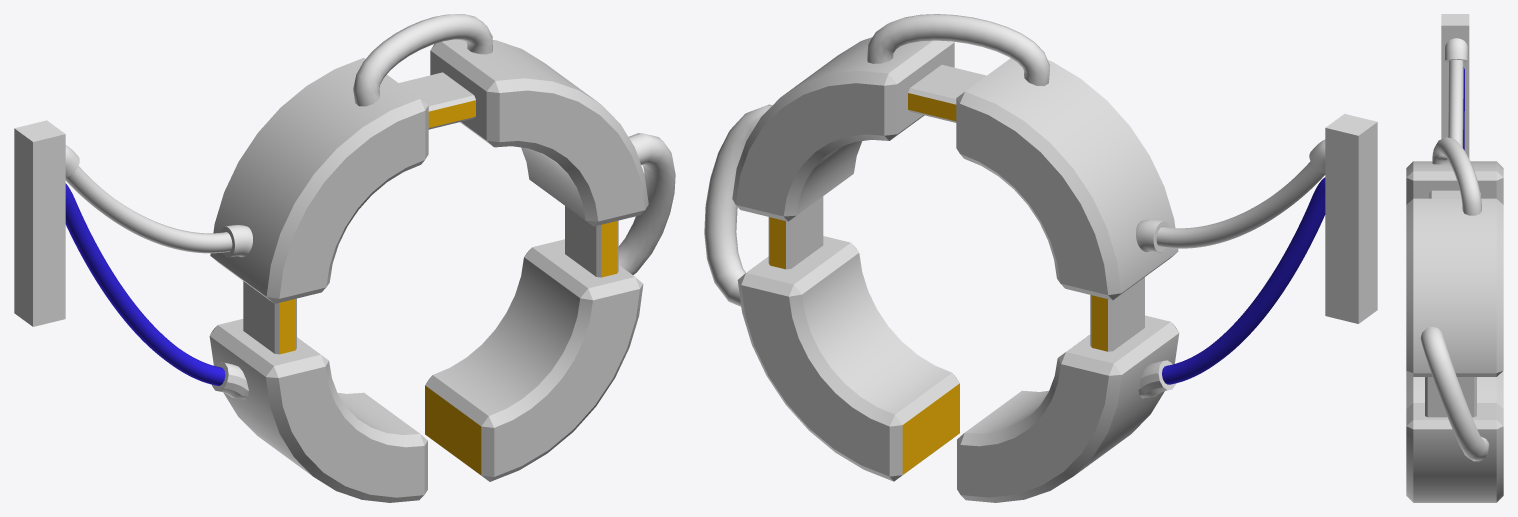
File: powerloop.fbx
The picture shows the model from 3 angles, left to right: view 1: azimuth 30°, elevation 25°; view 2: azimuth 150°, elevation 25°; view 3: azimuth 270°, elevation 25°; orthographic projection. The views are drawn at different scales.
Parts seen in each view (by area): view 1: object1, Cube, Fluent_Wire.003, Fluent_Wire.001, Fluent_Wire, Fluent_Wire.002, Fluent_Wire.003.Ring, Fluent_Wire.002.Ring; view 2: object1, Cube, Fluent_Wire.001, Fluent_Wire, Fluent_Wire.003, Fluent_Wire.002, Fluent_Wire.003.Ring, Fluent_Wire.002.Ring; view 3: object1, Fluent_Wire, Cube, Fluent_Wire.001, Fluent_Wire.002, Fluent_Wire.002.Ring.001, Fluent_Wire.003.
Boxes of the visible parts, x1,y1,x2,y2 form: object1: (209,39,648,502); Cube: (14,120,65,326); Fluent_Wire.003: (65,183,225,385); Fluent_Wire.001: (353,14,492,106); Fluent_Wire: (618,133,675,274); Fluent_Wire.002: (65,166,232,253); Fluent_Wire.003.Ring: (212,362,248,399); Fluent_Wire.002.Ring: (220,225,252,257); object1: (732,37,1179,502); Cube: (1325,113,1377,323); Fluent_Wire.001: (867,14,1049,86); Fluent_Wire: (704,104,772,306); Fluent_Wire.003: (1162,177,1325,384); Fluent_Wire.002: (1156,161,1325,248); Fluent_Wire.003.Ring: (1138,360,1175,398); Fluent_Wire.002.Ring: (1136,219,1169,252); object1: (1406,161,1503,502); Fluent_Wire: (1420,326,1489,461); Cube: (1441,14,1469,158); Fluent_Wire.001: (1432,137,1481,215); Fluent_Wire.002: (1448,59,1463,147); Fluent_Wire.002.Ring.001: (1444,38,1467,62); Fluent_Wire.003: (1463,67,1464,149).
Bounding box in the file's own units: 3971 × 2626 × 698.
